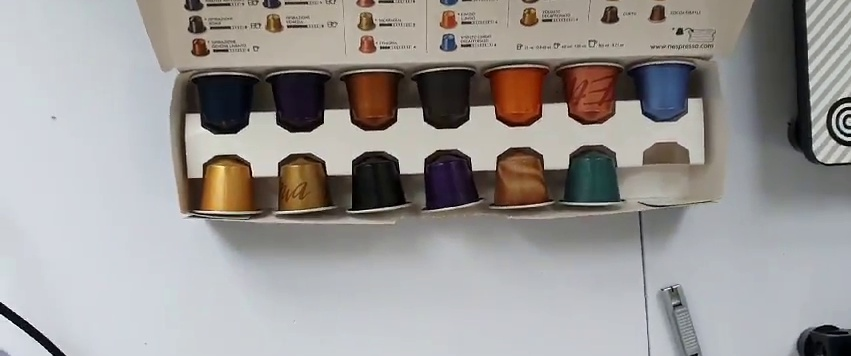capsule_1: (191, 67, 261, 135)
capsule_10: (346, 150, 412, 216)
capsule_11: (419, 148, 486, 214)
capsule_12: (489, 148, 552, 211)
capsule_13: (560, 146, 628, 207)
capsule_2: (267, 67, 334, 133)
capsule_3: (336, 68, 405, 130)
capsule_4: (415, 64, 482, 131)
capsule_5: (483, 64, 548, 127)
capsule_6: (557, 61, 624, 123)
capsule_7: (629, 59, 702, 122)
capsule_8: (190, 154, 261, 218)
capsule_9: (273, 153, 339, 218)
